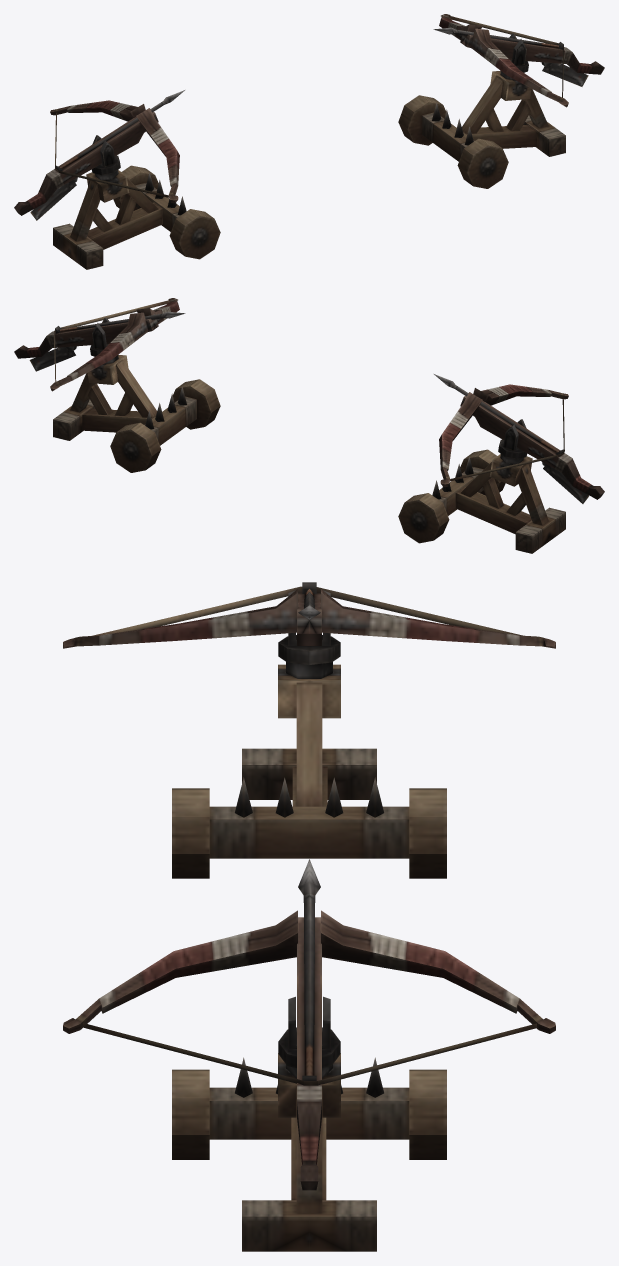
File: wujian05.fbx
3 views of the same model, one above another, from view 1: azimuth 30°, elevation 25°; view 2: azimuth 150°, elevation 25°; view 3: azimuth 270°, elevation 25° (orthographic). The views are drawn at different scales.
Parts seen in each view (by area): view 1: wujian05; view 2: wujian05; view 3: wujian05.
Boxes of the visible parts, <box> form: wujian05: <box>14,14,604,269</box>; wujian05: <box>14,298,604,553</box>; wujian05: <box>63,582,555,1251</box>.
Size of the model in its own units: 1614 by 367 by 588.
1 material, 1 textured.
